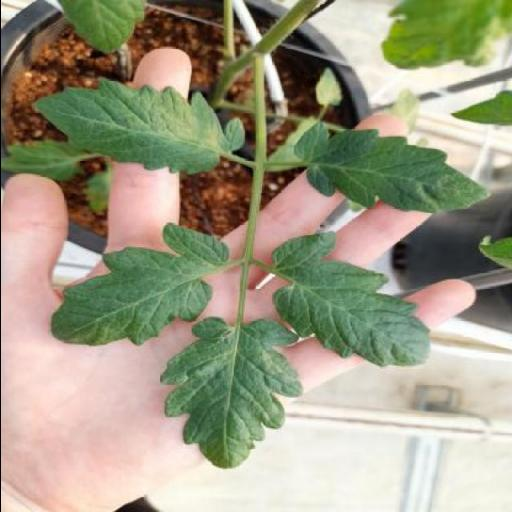Healthy: (270, 232, 430, 367), (51, 224, 228, 346), (162, 318, 302, 468), (32, 78, 244, 176), (292, 122, 489, 214)
